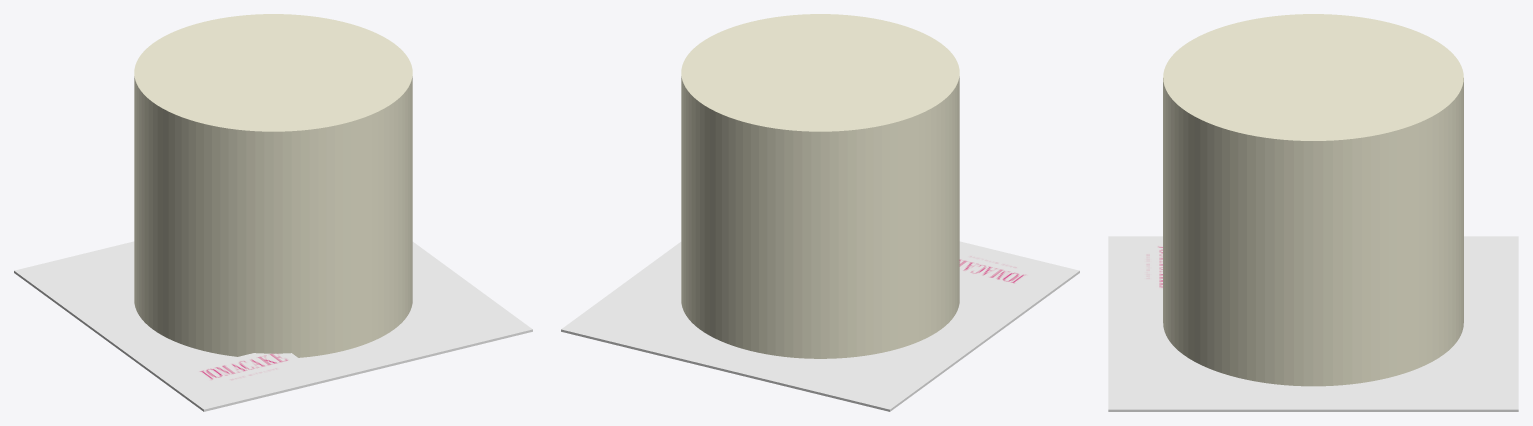
Rendered from cake_4in_layers3_v34.glb.
The picture shows the model from 3 angles, left to right: view 1: azimuth 30°, elevation 25°; view 2: azimuth 150°, elevation 25°; view 3: azimuth 270°, elevation 25°; orthographic projection. The views are drawn at different scales.
Parts seen in each view (by area): view 1: Cake, Board, Logo; view 2: Cake, Board, Logo; view 3: Cake, Board, Logo.
Boxes of the visible parts, x1=… form: Cake: x1=134, y1=14, x2=412, y2=357; Board: x1=14, y1=241, x2=532, y2=411; Logo: x1=184, y1=353, x2=310, y2=390; Cake: x1=681, y1=14, x2=959, y2=358; Board: x1=561, y1=241, x2=1079, y2=411; Logo: x1=959, y1=247, x2=1047, y2=289; Cake: x1=1163, y1=14, x2=1463, y2=386; Board: x1=1108, y1=236, x2=1518, y2=411; Logo: x1=1133, y1=241, x2=1162, y2=292.
Bounding box in the file's own units: 0.15 × 0.1 × 0.15.
